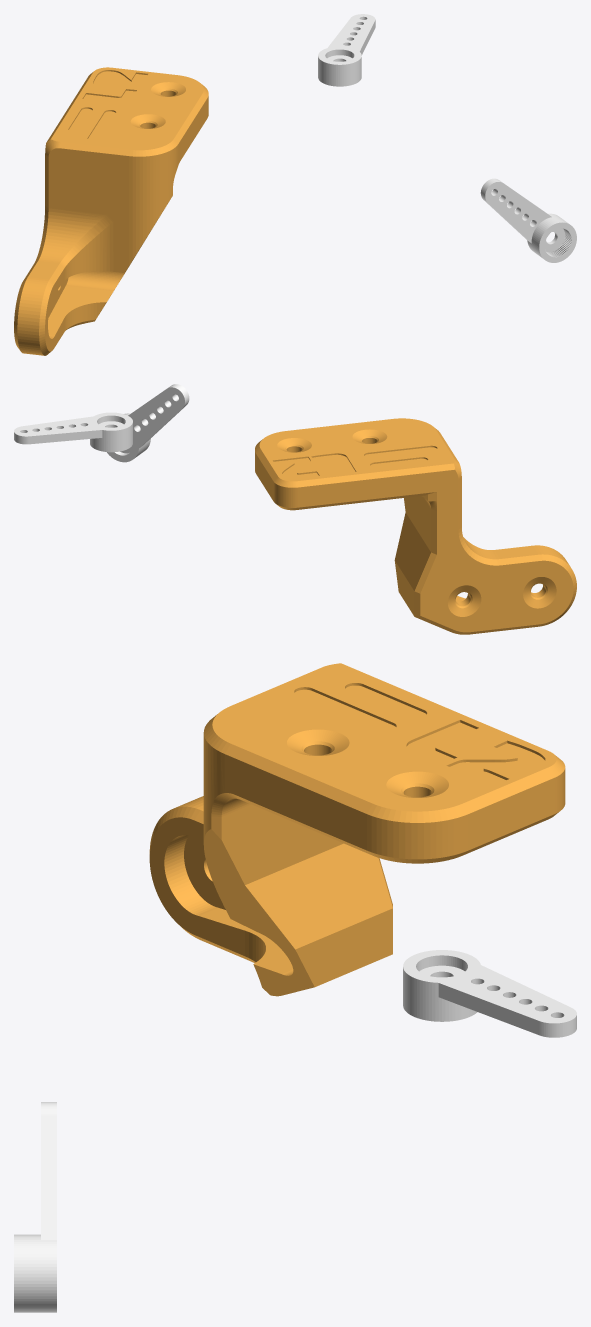
Rendered from left_rear_leg.glb.
The picture shows the model from 3 angles, top to bottom: view 1: azimuth 30°, elevation 25°; view 2: azimuth 150°, elevation 25°; view 3: azimuth 270°, elevation 25°; orthographic projection. The views are drawn at different scales.
Parts seen in each view (by area): view 1: femur_joint_l2, sg90_horn_2, sg90_horn; view 2: femur_joint_l2, sg90_horn, sg90_horn_2; view 3: femur_joint_l2, sg90_horn, sg90_horn_2.
Boxes of the visible parts, <box> form: femur_joint_l2: <box>14,67,208,355</box>; sg90_horn_2: <box>480,178,576,262</box>; sg90_horn: <box>318,14,375,86</box>; femur_joint_l2: <box>255,418,576,634</box>; sg90_horn: <box>14,412,132,452</box>; sg90_horn_2: <box>107,384,189,462</box>; femur_joint_l2: <box>149,663,565,996</box>; sg90_horn: <box>403,950,576,1037</box>; sg90_horn_2: <box>14,1102,56,1312</box>.
Bounding box in the file's own units: 0.6573 × 0.2134 × 0.3486.
